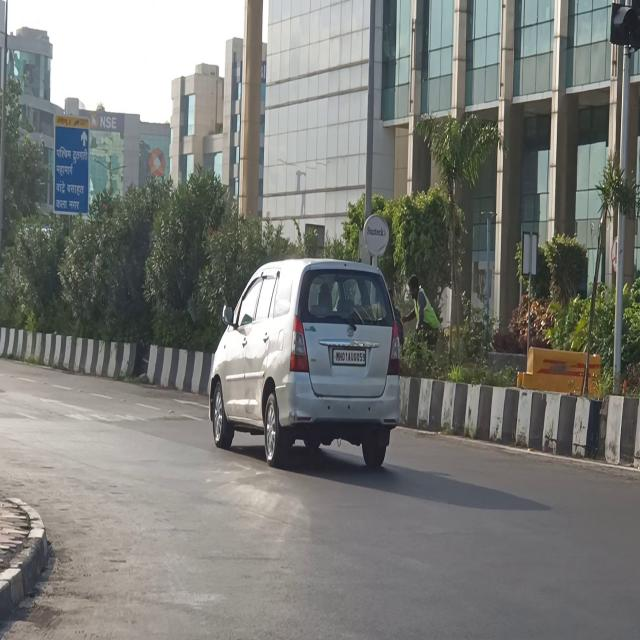Plate: (334, 348, 368, 367)
